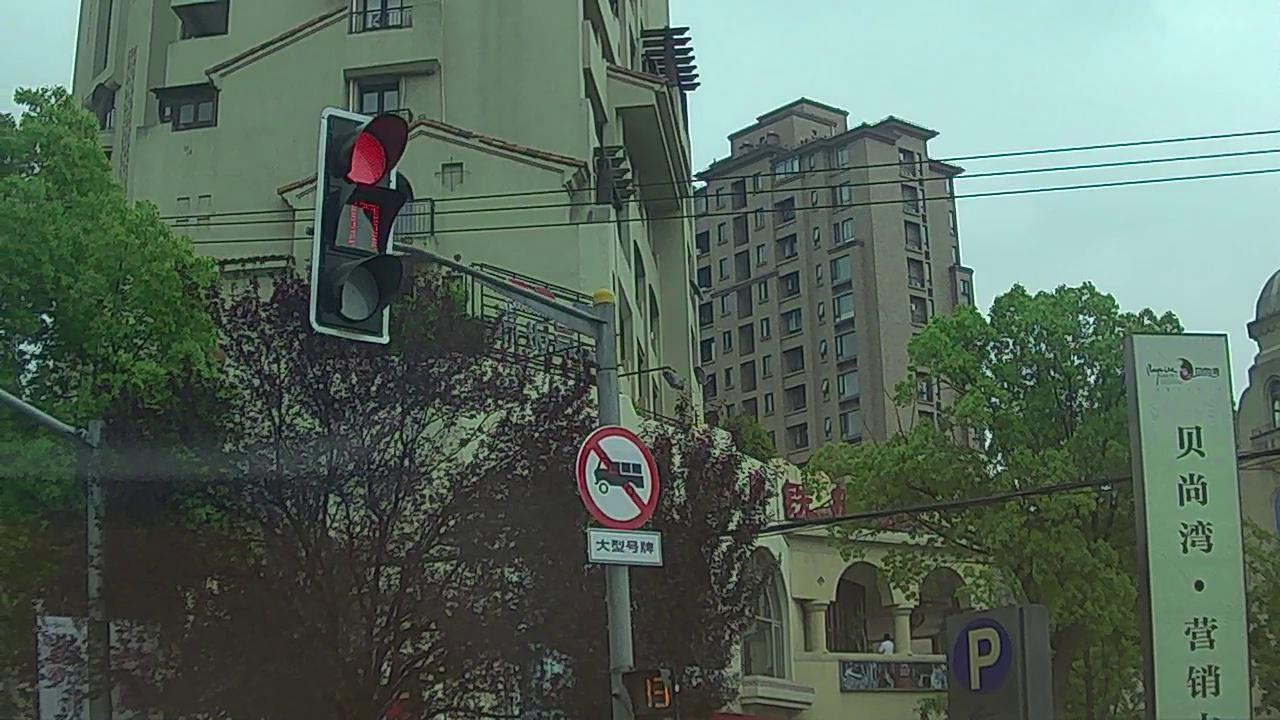traffic_light: (330, 112, 387, 331)
